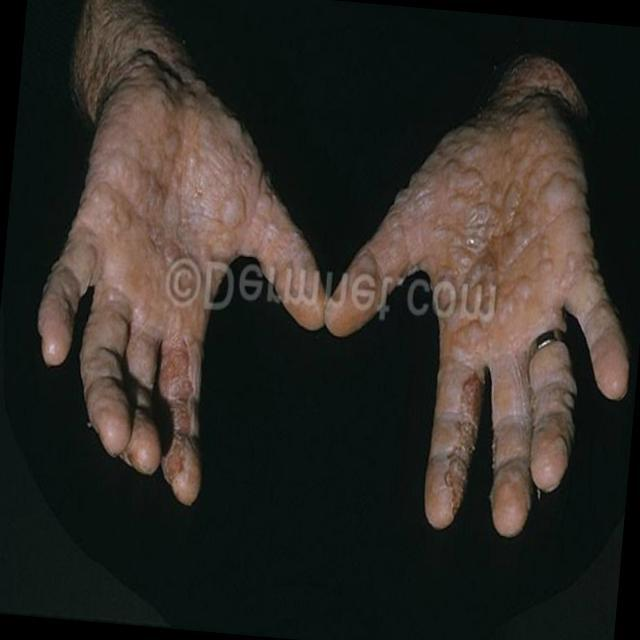Eczema: (374, 108, 601, 491), (68, 74, 299, 424)
